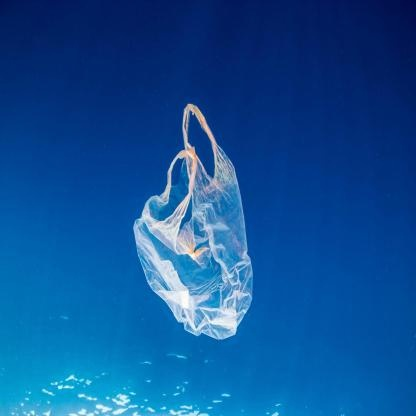pbag: (132, 97, 256, 340)
